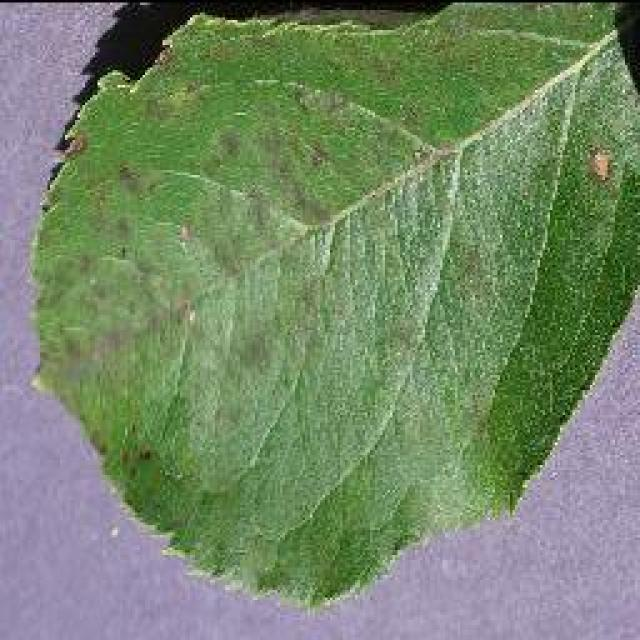apple scab disease: (25, 0, 637, 610)
